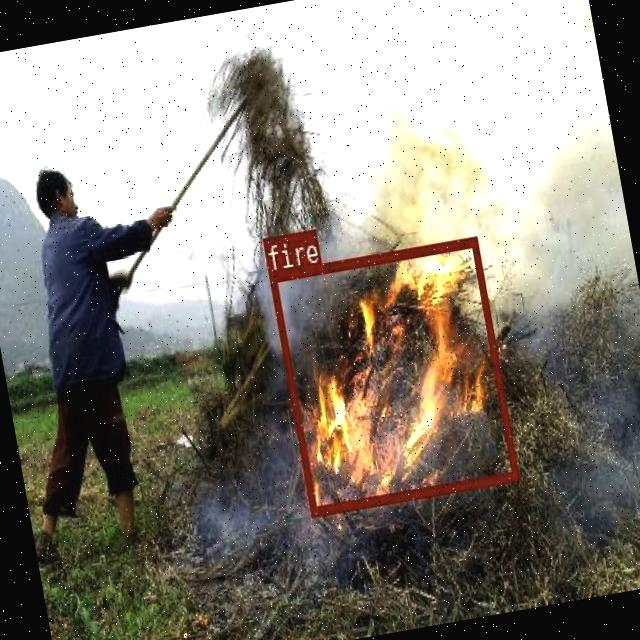fire: (268, 234, 518, 514)
